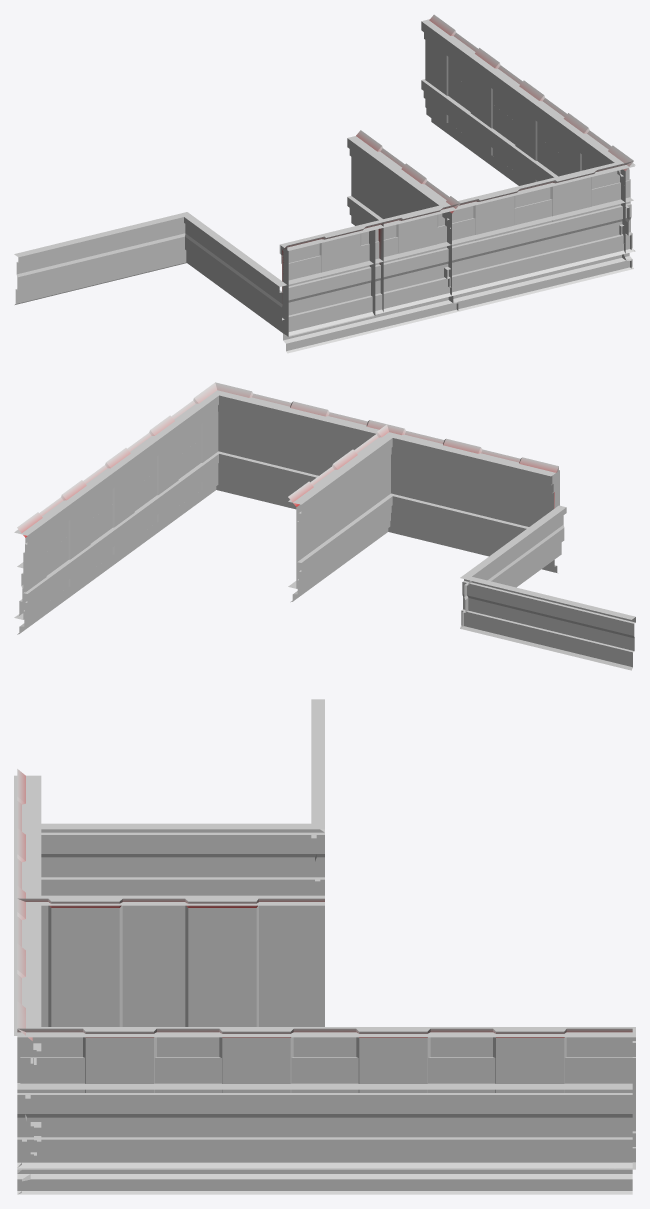
File: EAThe80_WallPanel_int.fbx
3 renders of one model, top to bottom at view 1: azimuth 30°, elevation 25°; view 2: azimuth 150°, elevation 25°; view 3: azimuth 270°, elevation 25°, orthographic. The views are drawn at different scales.
Parts seen in each view (by area): view 1: EAThe80_WallPanel_Corner_4x4_int_01d, EAThe80_WallPanel_Corner_2x2_int_01d, EAThe80_WallPanel_Corner_4x4_int_01b, EAThe80_WallPanel_Corner_4x4_int_01a, EAThe80_WallPanel_Corner_4x4_int_01c, EAThe80_WallPanel_Corner_2x2_int_01b, EAThe80_WallPanel_int_01a, EAThe80_WallPanel_int_01b, EAThe80_WallPanel_int_50_01a, EAThe80_WallPanel_int_01d, EAThe80_WallPanel_int_25_01b, EAThe80_WallPanel_int_50_01b (+2 smaller); view 2: EAThe80_WallPanel_Corner_4x4_int_01b, EAThe80_WallPanel_Corner_2x2_int_01b, EAThe80_WallPanel_Corner_2x2_int_01d, EAThe80_WallPanel_Corner_4x4_int_01a, EAThe80_WallPanel_int_01c, EAThe80_WallPanel_Corner_4x4_int_01c, EAThe80_WallPanel_int_01a, EAThe80_WallPanel_int_01b, EAThe80_WallPanel_Corner_2x2_int_01a, EAThe80_WallPanel_Corner_2x2_int_01c, EAThe80_WallPanel_Corner_4x4_int_01d, EAThe80_WallPanel_int_50_01a (+2 smaller); view 3: EAThe80_WallPanel_Corner_4x4_int_01d, EAThe80_WallPanel_Corner_2x2_int_01a, EAThe80_WallPanel_Corner_4x4_int_01a, EAThe80_WallPanel_Corner_2x2_int_01d, EAThe80_WallPanel_Corner_4x4_int_01b, EAThe80_WallPanel_Corner_4x4_int_01c, EAThe80_WallPanel_int_01b, EAThe80_WallPanel_Corner_2x2_int_01b, EAThe80_WallPanel_int_01a, EAThe80_WallPanel_int_25_01b, EAThe80_WallPanel_int_50_01b.
Part boxes in pixels (<box>): EAThe80_WallPanel_Corner_4x4_int_01d: <box>288,72,633,334</box>; EAThe80_WallPanel_Corner_2x2_int_01d: <box>14,212,286,335</box>; EAThe80_WallPanel_Corner_4x4_int_01b: <box>279,19,635,291</box>; EAThe80_WallPanel_Corner_4x4_int_01a: <box>288,14,633,273</box>; EAThe80_WallPanel_Corner_4x4_int_01c: <box>283,108,633,353</box>; EAThe80_WallPanel_Corner_2x2_int_01b: <box>297,136,451,295</box>; EAThe80_WallPanel_int_01a: <box>287,170,627,278</box>; EAThe80_WallPanel_int_01b: <box>288,164,634,285</box>; EAThe80_WallPanel_int_50_01a: <box>287,204,458,278</box>; EAThe80_WallPanel_int_01d: <box>288,197,633,335</box>; EAThe80_WallPanel_int_25_01b: <box>280,224,375,336</box>; EAThe80_WallPanel_int_50_01b: <box>285,204,461,286</box>; EAThe80_WallPanel_Corner_4x4_int_01b: <box>14,391,555,619</box>; EAThe80_WallPanel_Corner_2x2_int_01b: <box>288,436,553,588</box>; EAThe80_WallPanel_Corner_2x2_int_01d: <box>460,505,635,670</box>; EAThe80_WallPanel_Corner_4x4_int_01a: <box>17,382,558,619</box>; EAThe80_WallPanel_int_01c: <box>216,478,557,572</box>; EAThe80_WallPanel_Corner_4x4_int_01c: <box>17,479,558,634</box>; EAThe80_WallPanel_int_01a: <box>215,382,557,471</box>; EAThe80_WallPanel_int_01b: <box>214,390,553,492</box>; EAThe80_WallPanel_Corner_2x2_int_01a: <box>288,424,388,588</box>; EAThe80_WallPanel_Corner_2x2_int_01c: <box>290,521,554,602</box>; EAThe80_WallPanel_Corner_4x4_int_01d: <box>17,439,200,615</box>; EAThe80_WallPanel_int_50_01a: <box>389,425,558,499</box>; EAThe80_WallPanel_Corner_4x4_int_01d: <box>17,1083,632,1167</box>; EAThe80_WallPanel_Corner_2x2_int_01a: <box>18,898,324,1026</box>; EAThe80_WallPanel_Corner_4x4_int_01a: <box>17,769,632,1092</box>; EAThe80_WallPanel_Corner_2x2_int_01d: <box>41,699,324,895</box>; EAThe80_WallPanel_Corner_4x4_int_01b: <box>17,775,635,1169</box>; EAThe80_WallPanel_Corner_4x4_int_01c: <box>17,1169,632,1194</box>; EAThe80_WallPanel_int_01b: <box>14,775,37,1168</box>; EAThe80_WallPanel_Corner_2x2_int_01b: <box>23,776,324,905</box>; EAThe80_WallPanel_int_01a: <box>17,771,25,1034</box>; EAThe80_WallPanel_int_25_01b: <box>14,775,37,840</box>; EAThe80_WallPanel_int_50_01b: <box>14,775,37,905</box>.
Bounding box in the file's own units: 6.02 × 1.19 × 4.04.
